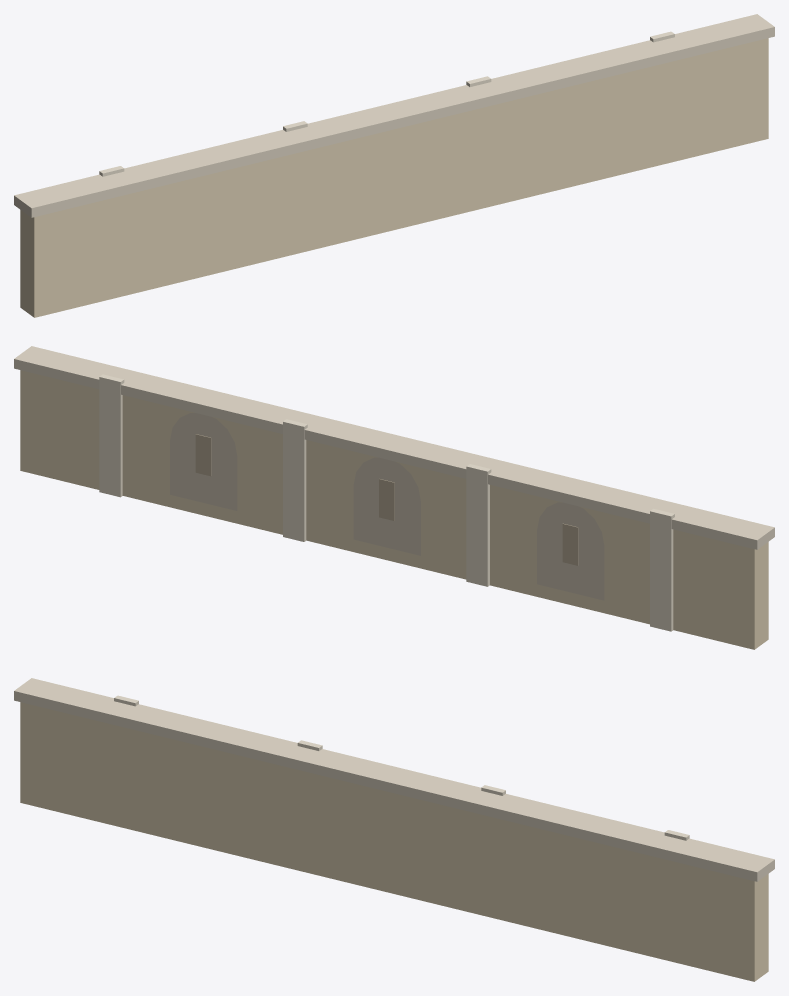
File: ornament_wall.glb
The picture shows the model from 3 angles, top to bottom: view 1: azimuth 30°, elevation 25°; view 2: azimuth 150°, elevation 25°; view 3: azimuth 330°, elevation 25°; orthographic projection.
Parts seen in each view (by area): view 1: OrnamentWall; view 2: OrnamentWall; view 3: OrnamentWall.
Boxes of the visible parts, bbox=[...] form: OrnamentWall: bbox=[14, 14, 774, 317]; OrnamentWall: bbox=[14, 346, 774, 649]; OrnamentWall: bbox=[14, 678, 774, 981].
Size of the model in its own units: 24.3 by 3.6 by 1.02.
